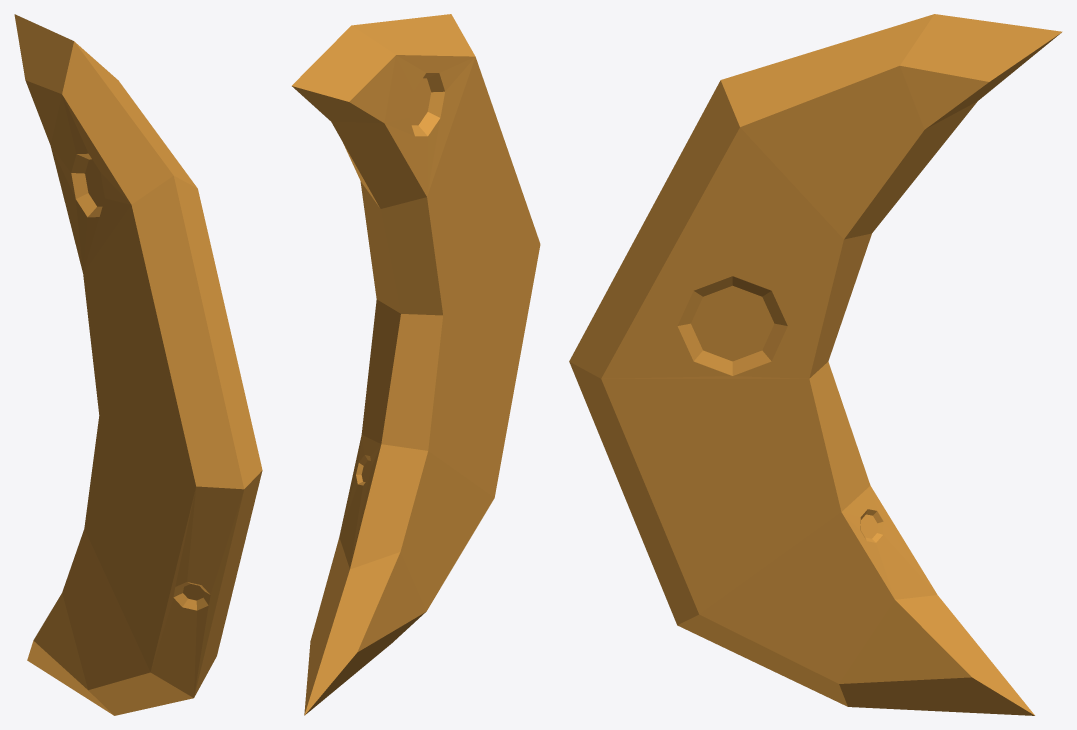
The picture shows the model from 3 angles, left to right: view 1: azimuth 30°, elevation 25°; view 2: azimuth 150°, elevation 25°; view 3: azimuth 270°, elevation 25°; orthographic projection. The views are drawn at different scales.
Parts seen in each view (by area): view 1: Moon_Circle.009; view 2: Moon_Circle.009; view 3: Moon_Circle.009.
Part boxes in pixels (x1,y1,x2,y2): Moon_Circle.009: [14, 14, 262, 715]; Moon_Circle.009: [292, 14, 540, 715]; Moon_Circle.009: [569, 14, 1062, 715].
Bounding box in the file's own units: 1.06 × 9.94 × 6.34.
